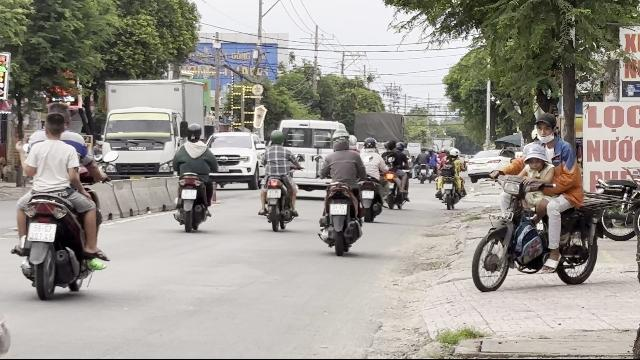helmet: (330, 130, 350, 148), (185, 122, 203, 142), (268, 129, 284, 145)
licenseplate: (28, 222, 56, 242), (329, 204, 346, 214), (267, 188, 281, 197), (182, 190, 196, 198)
motorcyclist: (470, 110, 606, 288), (8, 103, 108, 299), (317, 128, 365, 254), (168, 122, 218, 231), (256, 130, 300, 230)
nohelmet: (522, 144, 550, 172), (42, 113, 68, 139), (533, 113, 557, 141), (48, 103, 72, 127)
